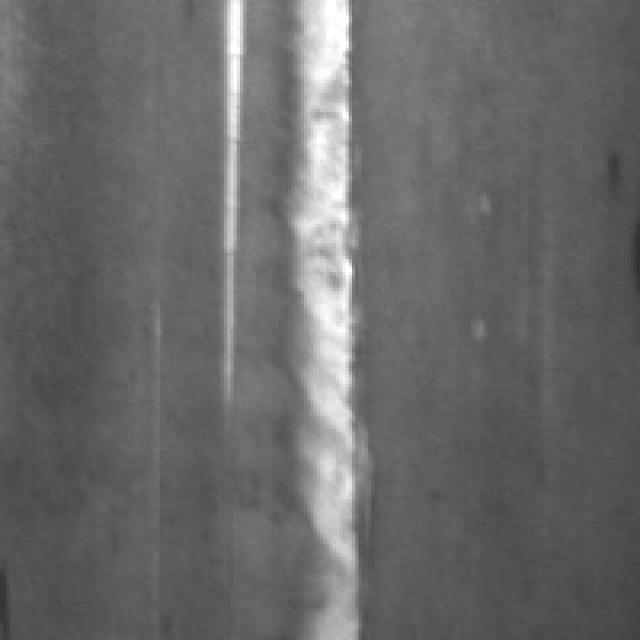scratches: (256, 0, 365, 634), (212, 0, 246, 416)
